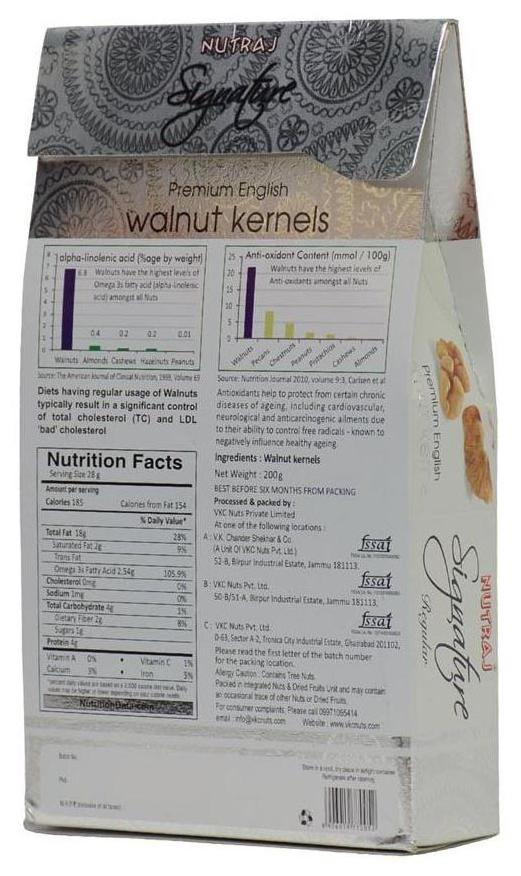fssai: (358, 569, 393, 589), (357, 533, 393, 552), (358, 611, 394, 629)
